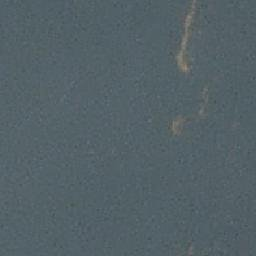debris: (172, 7, 195, 76), (169, 110, 193, 135)
